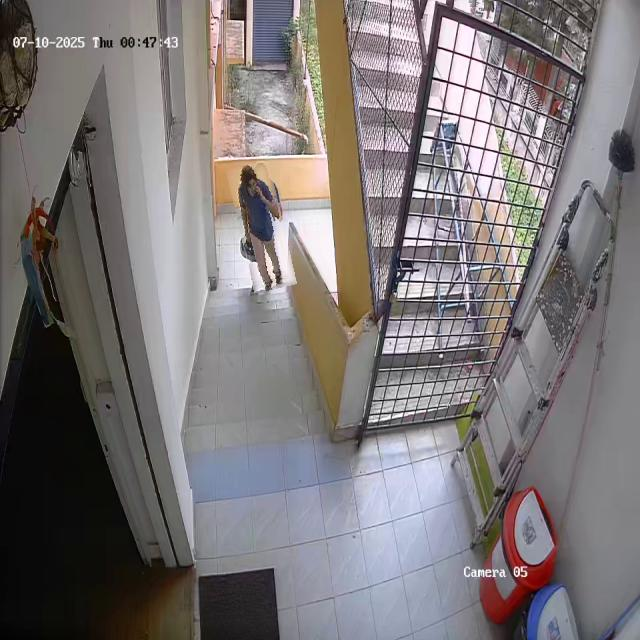person: (233, 161, 290, 292)
